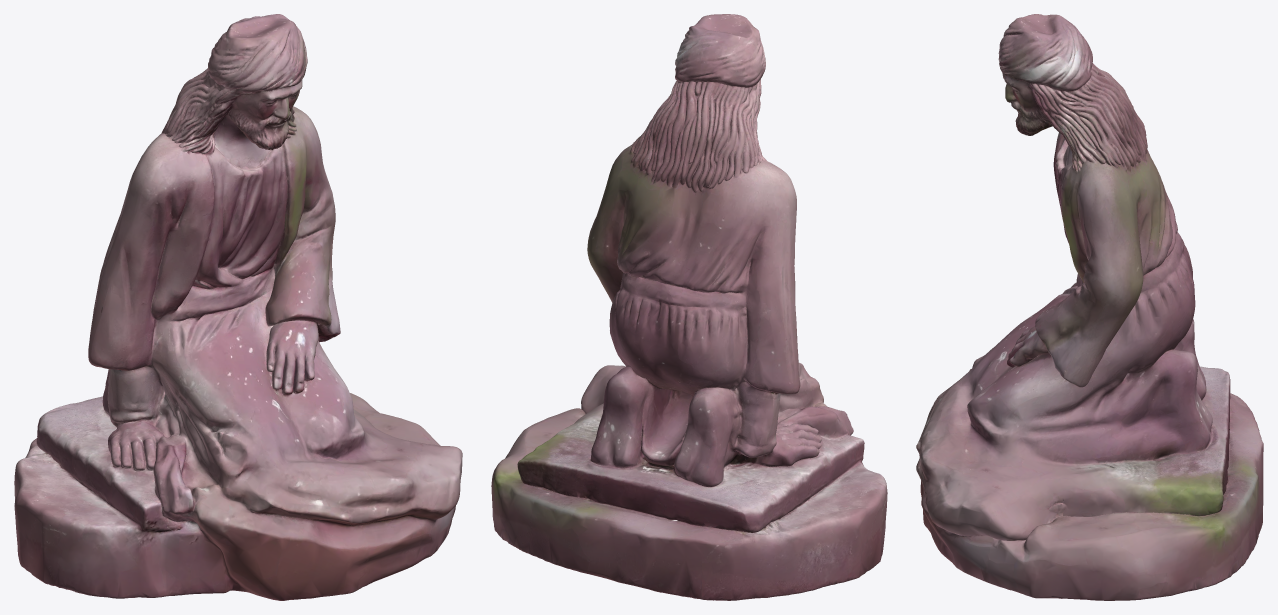
Rendered from obra-01-sagrada-familia.glb.
The picture shows the model from 3 angles, left to right: view 1: azimuth 30°, elevation 25°; view 2: azimuth 150°, elevation 25°; view 3: azimuth 270°, elevation 25°; orthographic projection. The views are drawn at different scales.
Size of the model in its own units: 1.48 by 1.9 by 1.22.
1 material, 1 textured.
